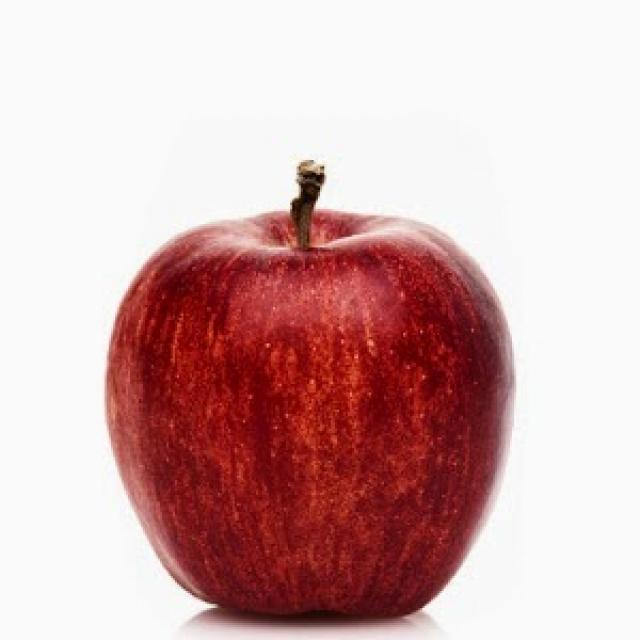Apple: (104, 159, 515, 627)
